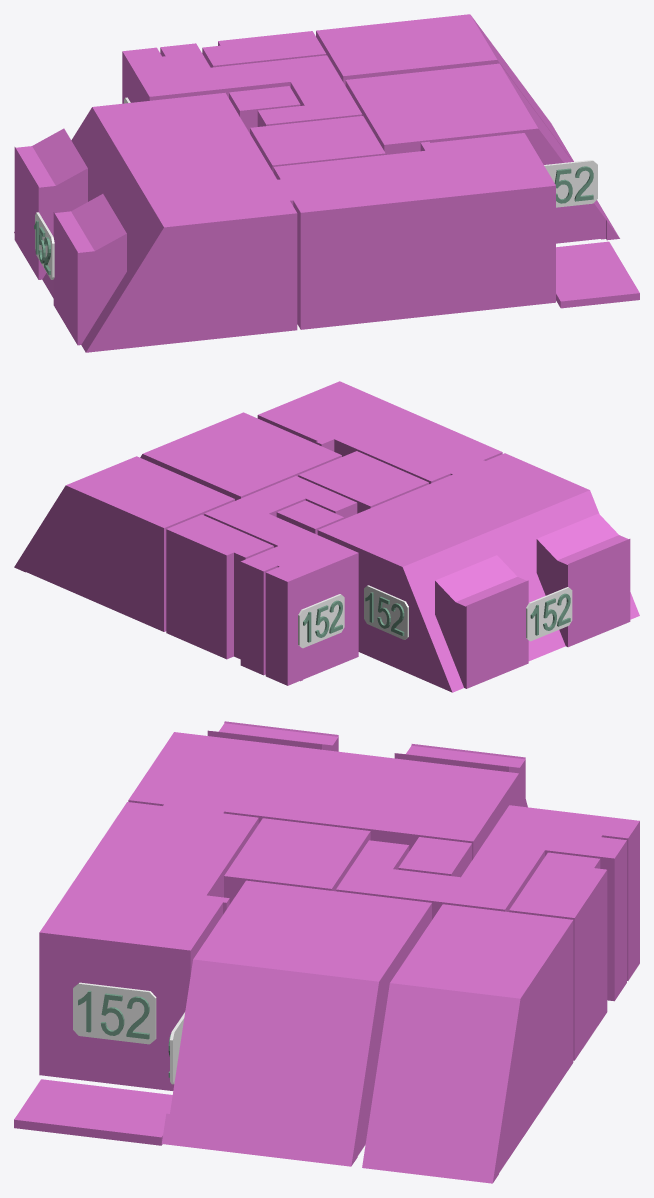
The picture shows the model from 3 angles, top to bottom: view 1: azimuth 30°, elevation 25°; view 2: azimuth 150°, elevation 25°; view 3: azimuth 270°, elevation 25°; orthographic projection. The views are drawn at different scales.
Visible parts, largest first — view 1: g_6, g_5, g_1, g_4, g_2, g_3, g_8, g_0, g_7, g_28, g_24; view 2: g_6, g_2, g_4, g_5, g_0, g_1, g_3, g_24, g_16, g_20, g_7; view 3: g_1, g_2, g_5, g_6, g_4, g_0, g_3, g_8, g_12, g_7.
Boxes of the visible parts, box(x1,y1,x2,y2) form: g_6: box(14, 92, 297, 352); g_5: box(273, 133, 555, 329); g_1: box(345, 63, 619, 243); g_4: box(122, 43, 362, 126); g_2: box(316, 14, 573, 161); g_3: box(250, 116, 385, 172); g_8: box(556, 241, 639, 308); g_0: box(202, 31, 326, 67); g_7: box(229, 86, 300, 133); g_28: box(544, 160, 597, 207); g_24: box(35, 212, 54, 279); g_6: box(317, 453, 639, 692); g_2: box(14, 456, 234, 631); g_4: box(204, 476, 358, 685); g_5: box(257, 381, 502, 483); g_0: box(166, 514, 273, 659); g_1: box(140, 412, 341, 500); g_3: box(298, 451, 428, 513); g_24: box(526, 587, 572, 641); g_16: box(298, 594, 344, 648); g_20: box(364, 585, 408, 639); g_7: box(276, 500, 343, 534); g_1: box(161, 880, 431, 1166); g_2: box(362, 904, 573, 1183); g_5: box(39, 802, 258, 1090); g_6: box(128, 721, 527, 860); g_4: box(336, 805, 639, 1001); g_0: box(509, 852, 607, 1060); g_3: box(224, 818, 370, 904); g_8: box(14, 1079, 172, 1145); g_12: box(73, 982, 156, 1044); g_7: box(398, 837, 471, 877).
Bounding box in the file's own units: 13.31 × 2.71 × 10.12.
